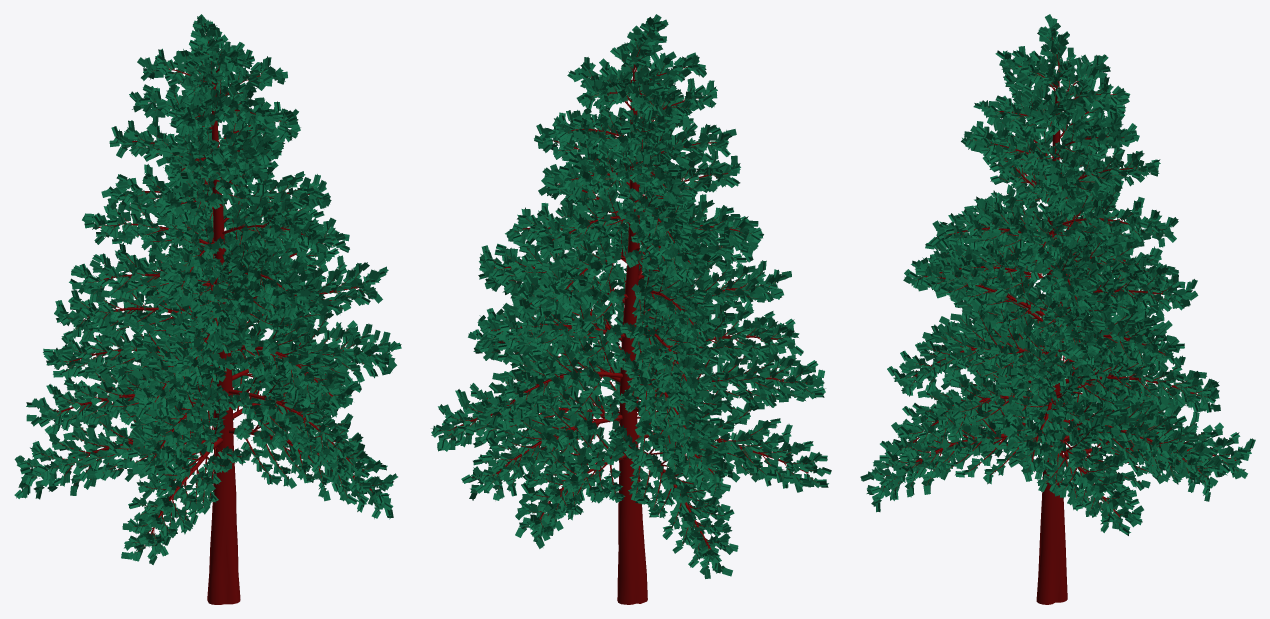
File: Tree_LOD.fbx
3 renders of one model, left to right at view 1: azimuth 30°, elevation 25°; view 2: azimuth 150°, elevation 25°; view 3: azimuth 270°, elevation 25°, orthographic. The views are drawn at different scales.
Parts seen in each view (by area): view 1: Tree_0; view 2: Tree_0; view 3: Tree_0.
Boxes of the visible parts, x1,y1,x2,y2 form: Tree_0: (14,14,401,604); Tree_0: (431,14,831,604); Tree_0: (860,14,1255,604).
Size of the model in its own units: 235 by 408 by 256.
